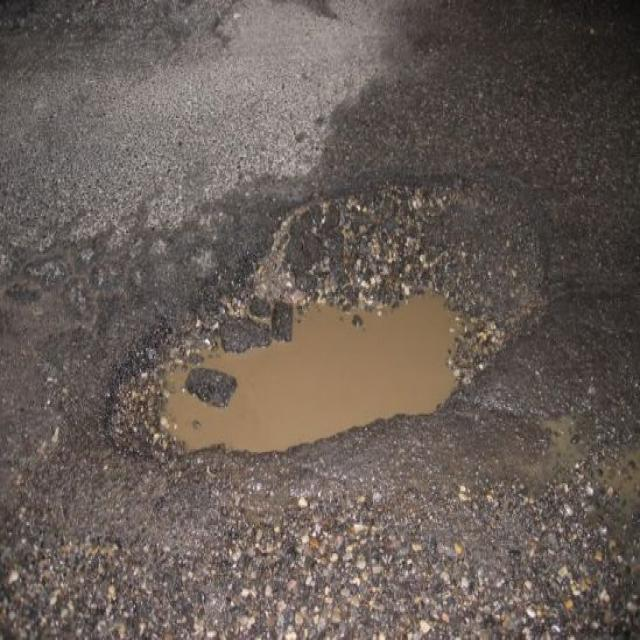Pothole: (99, 166, 550, 466)
